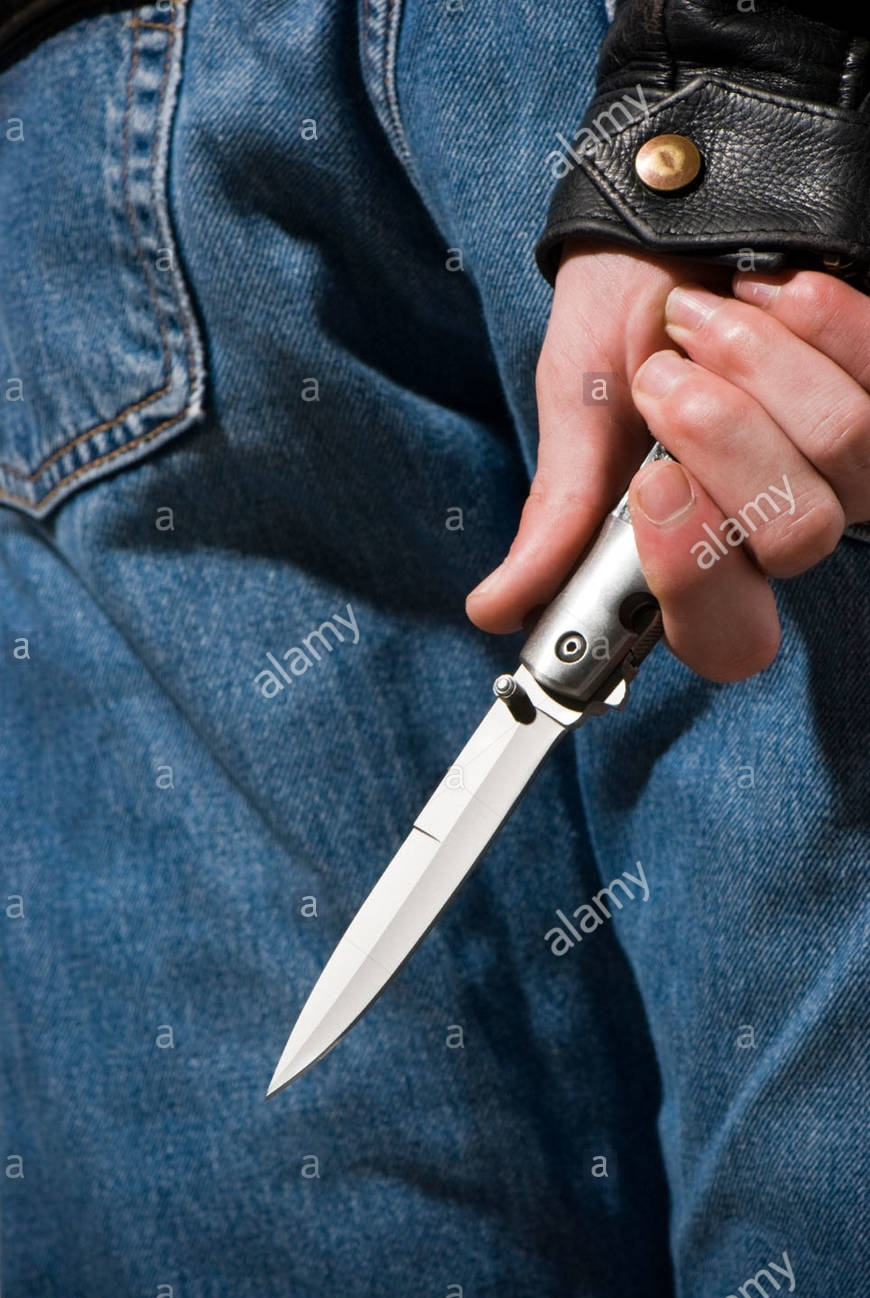knife: (244, 328, 855, 1120)
